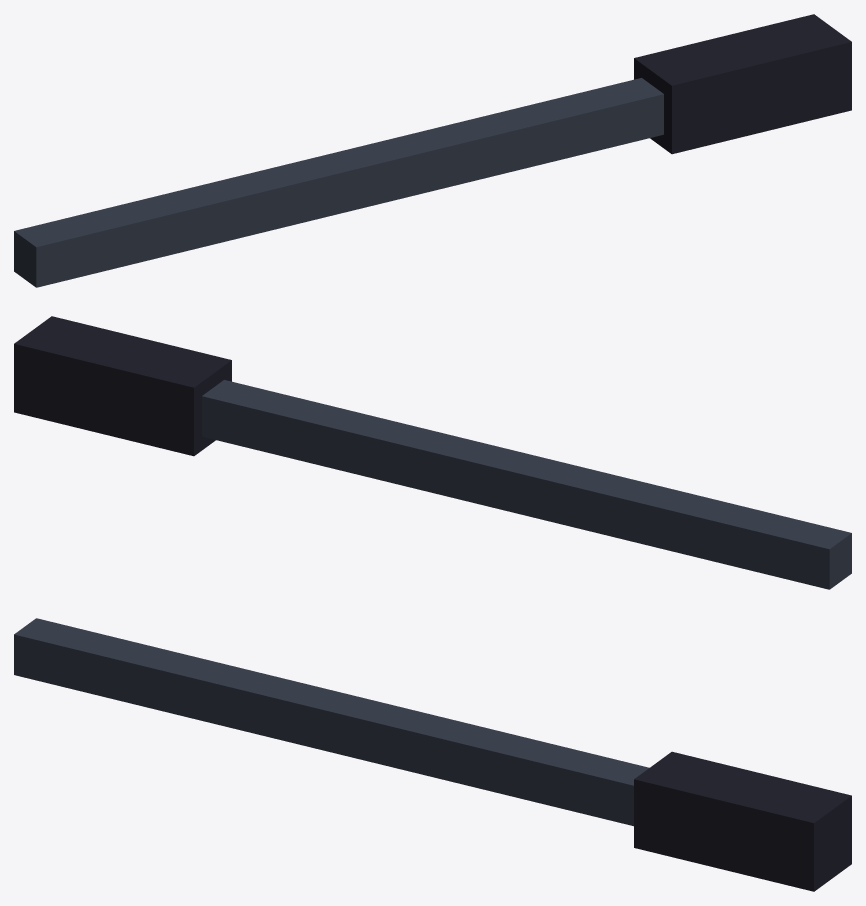
The model's file is Cable_C_1_1.fbx.
The picture shows the model from 3 angles, top to bottom: view 1: azimuth 30°, elevation 25°; view 2: azimuth 150°, elevation 25°; view 3: azimuth 330°, elevation 25°; orthographic projection.
Parts seen in each view (by area): view 1: Cable_C_1_1; view 2: Cable_C_1_1; view 3: Cable_C_1_1.
Part boxes in pixels (bbox=[...]): Cable_C_1_1: bbox=[14, 14, 851, 287]; Cable_C_1_1: bbox=[14, 316, 851, 589]; Cable_C_1_1: bbox=[14, 618, 851, 891].
Size of the model in its own units: 121 by 9.83 by 9.83.
